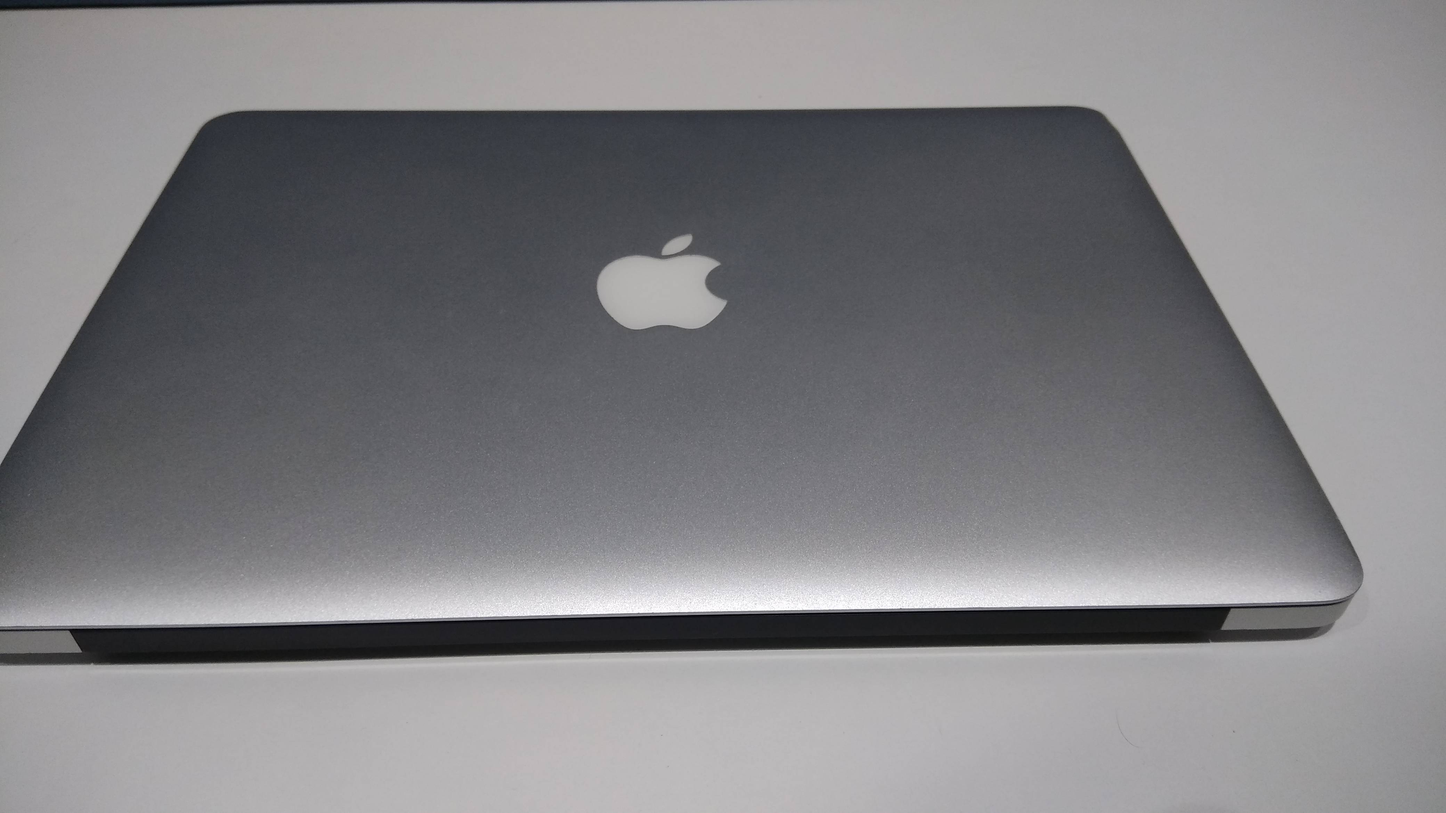Electronics: (8, 87, 1374, 673)
